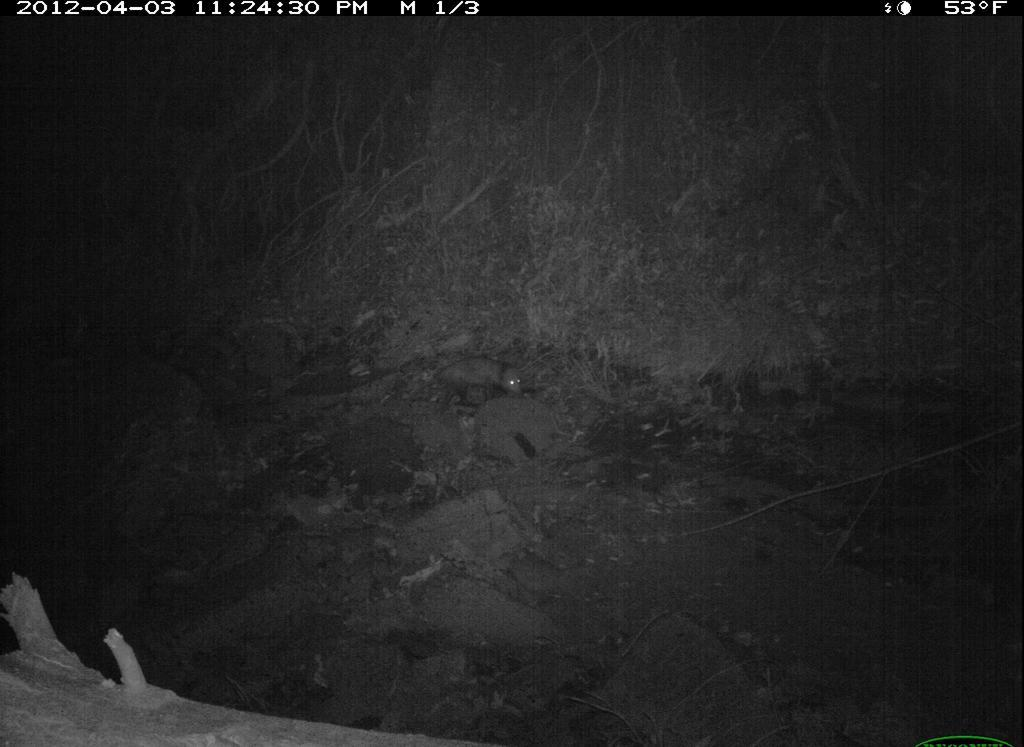opossum: (424, 351, 529, 410)
